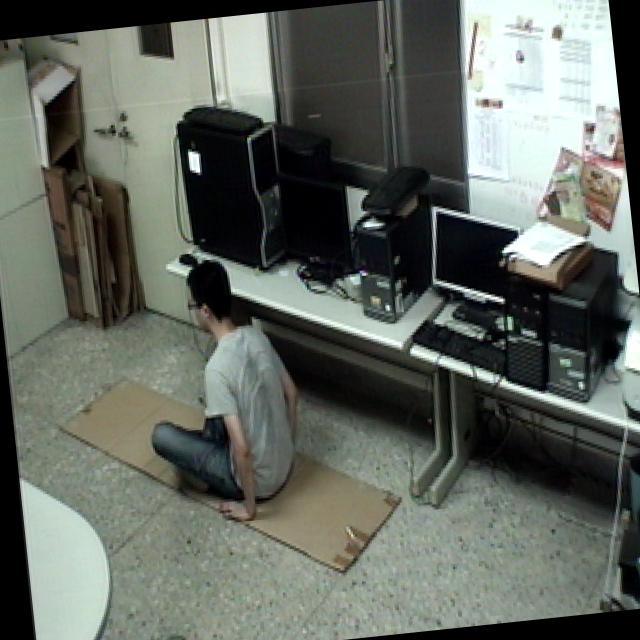sit: (128, 248, 318, 538)
